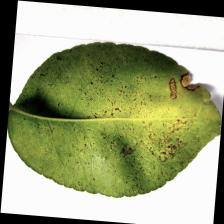canker: (84, 56, 203, 173)
